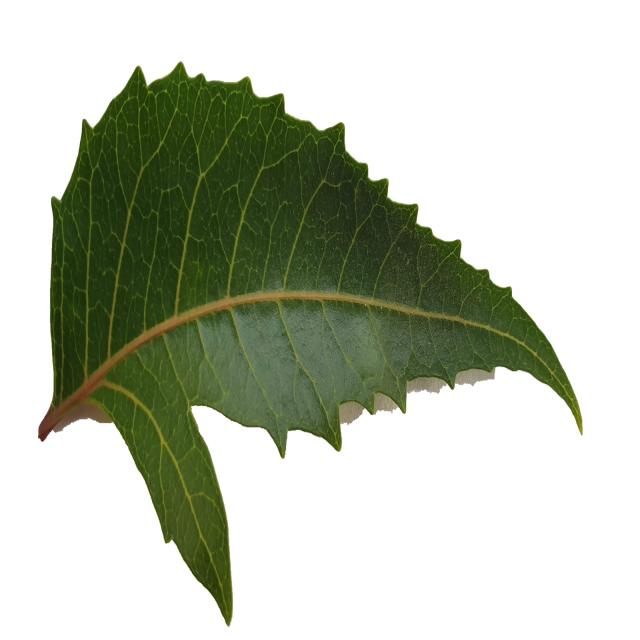Medicinal-Neem: (30, 56, 583, 623)
